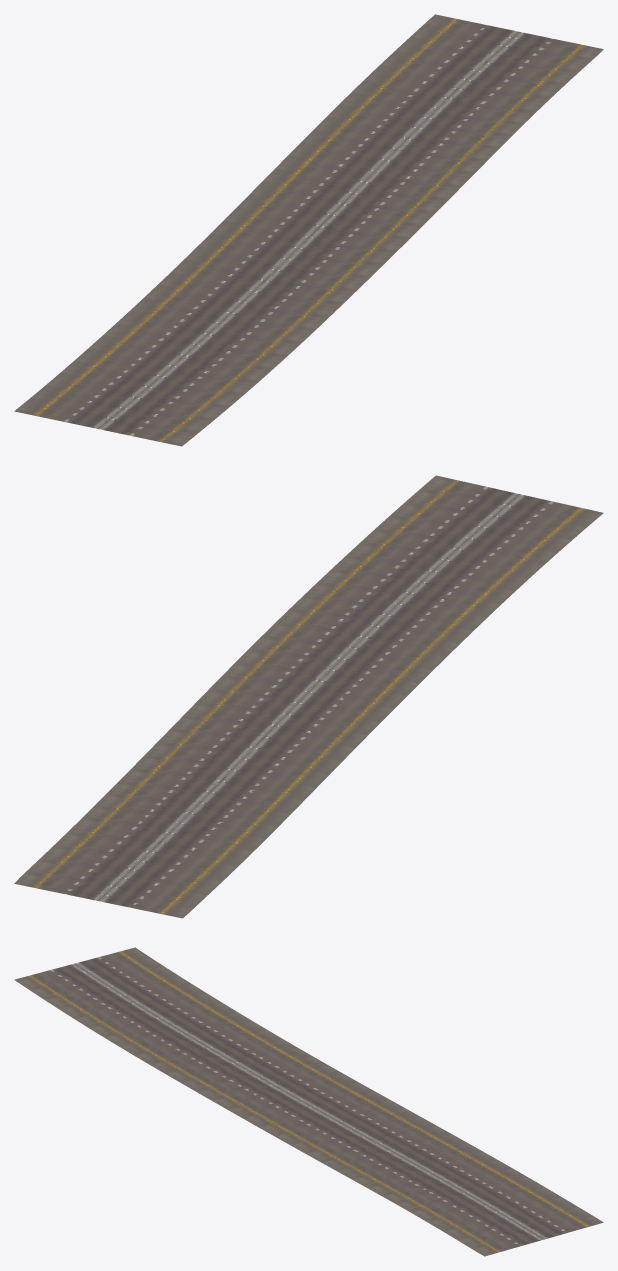
The model's file is road10.fbx.
The picture shows the model from 3 angles, top to bottom: view 1: azimuth 30°, elevation 25°; view 2: azimuth 210°, elevation 25°; view 3: azimuth 270°, elevation 25°; orthographic projection. The views are drawn at different scales.
Parts seen in each view (by area): view 1: road10; view 2: road10; view 3: road10.
Part boxes in pixels (box(x1,y1,x2,y2)): road10: box(14, 14, 603, 446); road10: box(14, 475, 603, 918); road10: box(14, 947, 603, 1256).
Size of the model in its own units: 14013 by 89.21 by 11425.
Materials: 1 (1 with a texture image).
